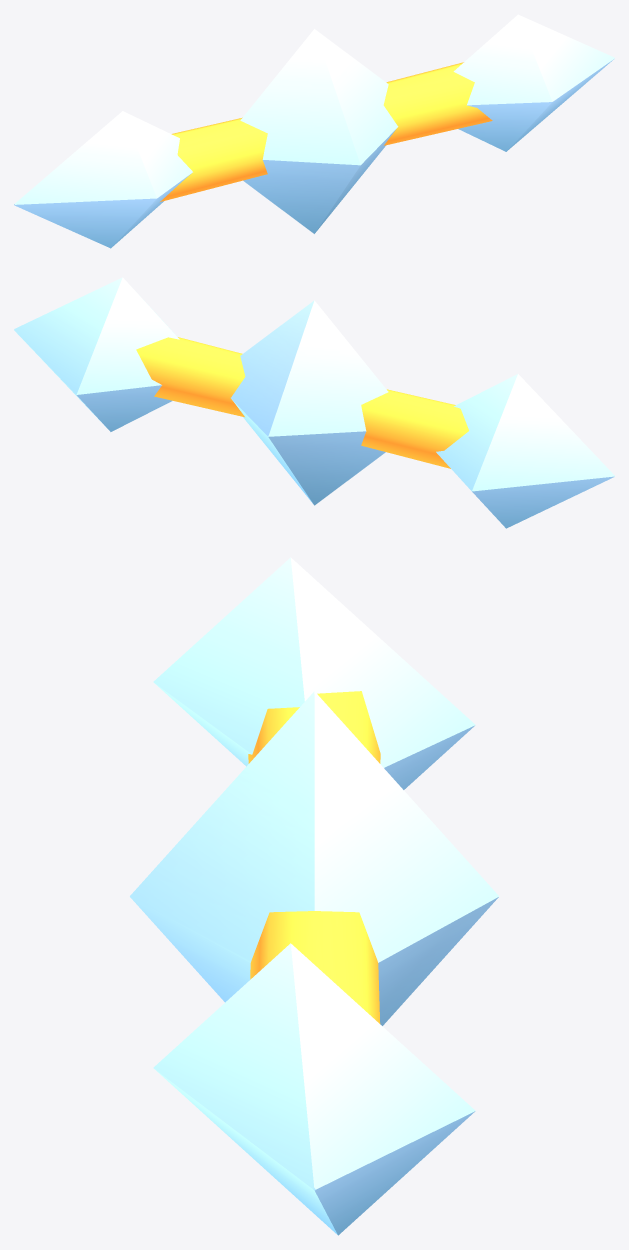
Rendered from gold_and_steel_guard_026.glb.
3 renders of one model, top to bottom at view 1: azimuth 30°, elevation 25°; view 2: azimuth 150°, elevation 25°; view 3: azimuth 270°, elevation 25°, orthographic. The views are drawn at different scales.
Visible parts, largest first — view 1: gold_and_steel_guard_026; view 2: gold_and_steel_guard_026; view 3: gold_and_steel_guard_026.
Boxes of the visible parts, x1,y1,x2,y2 form: gold_and_steel_guard_026: [14, 14, 614, 248]; gold_and_steel_guard_026: [14, 277, 614, 528]; gold_and_steel_guard_026: [130, 557, 498, 1235].
Size of the model in its own units: 8.65 by 2.83 by 2.31.
1 material, 1 textured.
